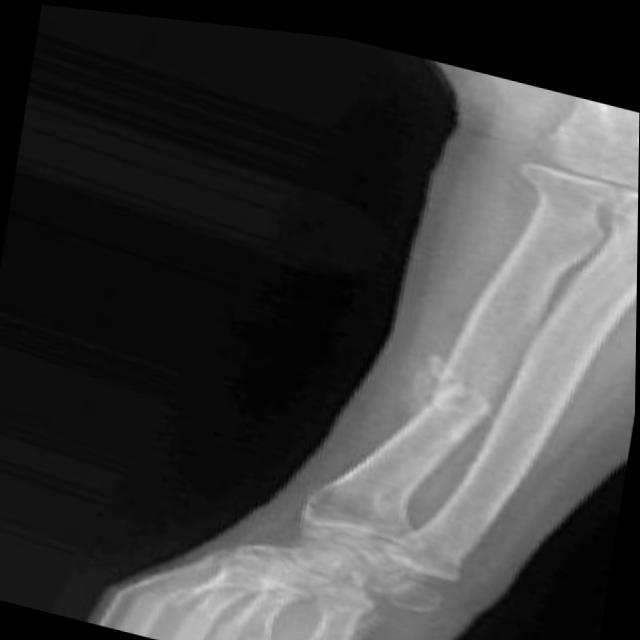fracture: (417, 348, 504, 419)
